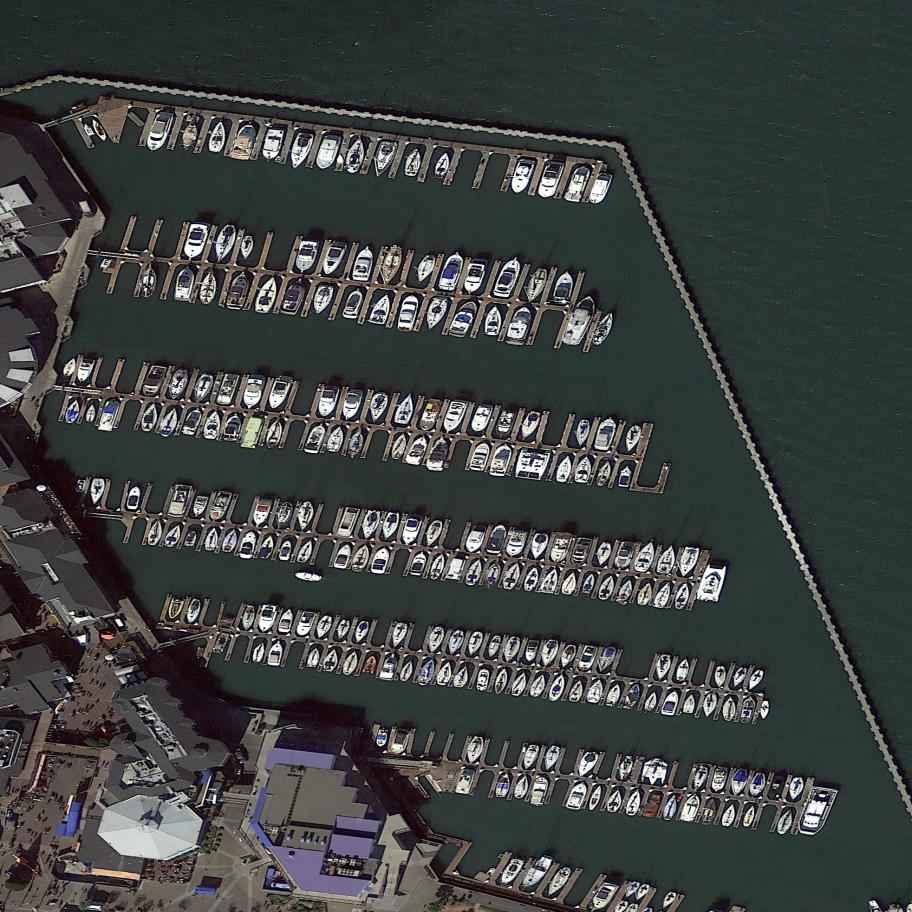ship: (796, 782, 838, 842), (561, 290, 600, 351), (518, 849, 555, 895), (447, 295, 480, 342), (492, 253, 524, 301), (512, 446, 554, 482), (504, 302, 536, 349), (145, 108, 175, 156), (696, 562, 728, 606), (278, 275, 309, 320), (230, 118, 260, 164), (182, 219, 212, 264), (224, 267, 253, 313), (286, 129, 316, 173), (369, 137, 399, 180), (521, 264, 551, 307), (291, 236, 321, 278), (438, 249, 466, 294), (542, 862, 574, 901), (564, 162, 593, 205), (252, 273, 281, 316), (537, 158, 565, 202), (239, 371, 269, 412), (440, 396, 469, 438), (314, 131, 343, 173), (461, 255, 490, 297), (239, 411, 268, 452), (211, 222, 238, 266), (422, 293, 450, 335), (425, 434, 453, 475), (266, 372, 294, 413), (508, 156, 536, 197), (379, 244, 405, 288), (343, 133, 369, 176), (590, 309, 617, 349), (321, 239, 348, 279), (496, 854, 526, 890), (165, 481, 192, 521), (196, 267, 222, 308), (367, 290, 395, 328), (259, 124, 286, 163), (141, 362, 168, 401), (351, 244, 377, 284), (632, 538, 659, 576), (587, 879, 618, 912), (418, 395, 444, 434), (489, 440, 515, 479), (592, 415, 618, 454), (405, 432, 432, 469), (547, 529, 574, 566), (639, 755, 669, 788), (393, 390, 419, 428), (96, 397, 122, 435), (588, 170, 614, 208), (208, 487, 234, 525), (335, 504, 361, 542), (396, 292, 420, 333), (172, 264, 197, 303), (468, 400, 495, 436), (479, 303, 506, 339), (315, 383, 341, 420), (675, 544, 701, 581), (292, 498, 318, 535), (166, 365, 191, 403), (205, 119, 230, 156), (310, 282, 335, 319), (498, 559, 524, 594), (493, 406, 518, 442), (304, 420, 329, 456), (215, 372, 240, 408), (399, 512, 424, 548), (340, 386, 364, 423), (655, 543, 680, 578), (357, 508, 382, 543), (366, 389, 390, 425), (138, 399, 162, 435), (341, 286, 365, 322), (180, 405, 205, 439), (200, 408, 225, 442), (518, 408, 542, 443), (468, 439, 492, 474), (485, 522, 509, 557), (191, 371, 215, 406), (158, 405, 181, 441), (572, 452, 596, 486), (568, 535, 592, 569), (613, 538, 637, 572), (565, 779, 589, 813), (137, 265, 160, 300), (414, 252, 437, 287), (538, 565, 563, 597), (369, 544, 393, 577), (463, 555, 486, 589), (552, 269, 575, 303), (250, 496, 273, 530), (346, 425, 368, 460), (553, 453, 577, 485), (505, 528, 529, 560), (527, 531, 551, 563), (272, 499, 296, 531), (84, 476, 108, 508), (221, 411, 244, 444), (402, 146, 425, 179), (236, 529, 259, 562), (179, 118, 201, 152), (529, 774, 551, 808), (464, 733, 486, 767), (545, 671, 567, 705), (728, 766, 751, 798), (774, 806, 797, 838), (350, 541, 373, 573), (539, 637, 561, 670), (652, 651, 674, 684), (595, 572, 618, 603), (454, 766, 477, 797), (200, 524, 223, 555), (427, 550, 449, 582), (465, 523, 487, 555), (652, 579, 674, 611), (425, 624, 447, 656), (576, 643, 598, 675), (596, 644, 618, 676), (680, 792, 702, 824), (380, 510, 402, 542), (256, 603, 278, 635), (416, 657, 438, 689), (592, 539, 615, 569), (577, 750, 600, 780), (642, 791, 665, 821), (660, 687, 682, 718), (264, 418, 285, 450), (464, 628, 485, 660), (210, 629, 233, 658), (74, 356, 96, 386), (333, 541, 355, 571), (585, 676, 607, 706), (295, 609, 317, 639), (484, 558, 505, 589), (622, 423, 643, 454), (572, 417, 593, 448), (501, 634, 522, 665), (699, 796, 720, 827), (219, 525, 240, 556), (622, 681, 643, 712), (379, 651, 400, 682), (605, 786, 627, 815), (325, 424, 346, 454), (522, 564, 543, 594), (690, 764, 711, 794), (424, 518, 444, 549), (494, 770, 514, 801), (390, 727, 411, 756), (747, 771, 768, 800), (163, 521, 184, 550), (529, 672, 550, 701), (389, 432, 409, 462), (433, 150, 453, 180), (624, 788, 644, 818), (164, 595, 186, 622), (738, 694, 757, 725), (146, 517, 165, 548), (492, 665, 511, 696), (635, 580, 656, 608), (89, 116, 110, 144), (785, 774, 806, 802), (63, 397, 83, 426), (560, 569, 580, 598), (237, 234, 257, 263), (409, 549, 429, 578), (542, 744, 562, 773), (446, 628, 466, 657), (558, 642, 578, 671), (720, 695, 740, 724), (435, 659, 455, 688), (314, 613, 334, 642), (673, 581, 692, 611), (661, 792, 680, 822), (512, 773, 532, 801), (277, 607, 297, 635), (257, 533, 277, 561), (295, 537, 315, 565), (510, 671, 530, 699), (595, 459, 614, 488), (521, 743, 540, 772), (616, 754, 635, 783), (711, 765, 730, 794), (239, 604, 258, 633), (184, 597, 203, 626), (389, 621, 408, 650), (587, 783, 605, 813), (452, 663, 472, 690), (321, 647, 341, 674), (700, 691, 719, 719), (341, 649, 360, 677), (616, 577, 636, 603), (267, 639, 285, 667), (304, 645, 323, 671), (486, 633, 504, 660), (741, 803, 759, 830), (568, 678, 586, 705), (642, 689, 661, 714), (747, 667, 765, 693), (720, 802, 738, 828), (191, 493, 209, 519), (352, 619, 370, 645), (605, 682, 623, 707), (675, 657, 692, 683), (711, 664, 728, 690), (660, 889, 679, 912), (399, 659, 416, 684), (294, 570, 324, 584), (62, 355, 79, 379), (523, 639, 540, 663), (581, 571, 597, 596), (731, 665, 747, 690), (278, 538, 294, 563), (681, 693, 698, 716), (127, 485, 142, 511), (335, 618, 351, 642), (623, 880, 641, 901), (618, 464, 633, 489), (82, 402, 99, 424), (634, 881, 651, 903), (362, 654, 378, 676), (251, 641, 266, 664), (184, 528, 199, 549), (477, 668, 490, 692), (375, 729, 389, 749), (81, 121, 95, 138), (99, 256, 113, 272), (74, 477, 87, 494), (759, 700, 770, 720), (485, 864, 499, 878)
small-vehicle: (270, 881, 295, 890)
